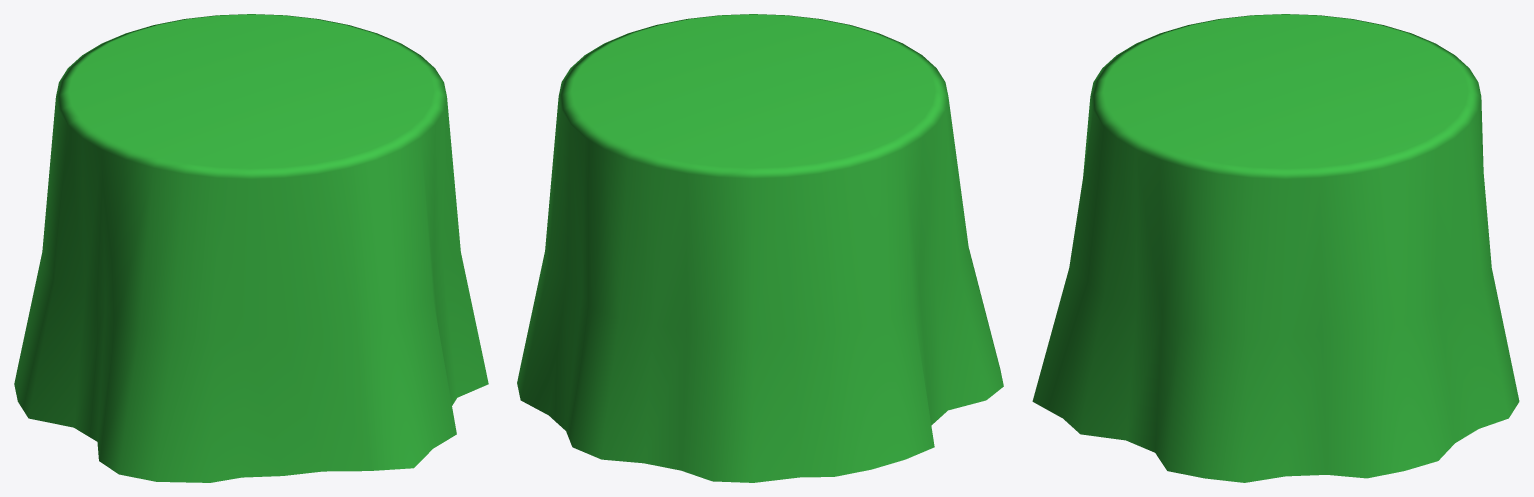
File: Tablecloth.fbx
3 renders of one model, left to right at view 1: azimuth 30°, elevation 25°; view 2: azimuth 150°, elevation 25°; view 3: azimuth 270°, elevation 25°, orthographic.
Visible parts, largest first — view 1: Tablecloth; view 2: Tablecloth; view 3: Tablecloth.
Boxes of the visible parts, <box> form: Tablecloth: <box>14,14,488,482</box>; Tablecloth: <box>517,14,1003,482</box>; Tablecloth: <box>1032,14,1519,482</box>.
Bounding box in the file's own units: 120 × 83.23 × 125.
